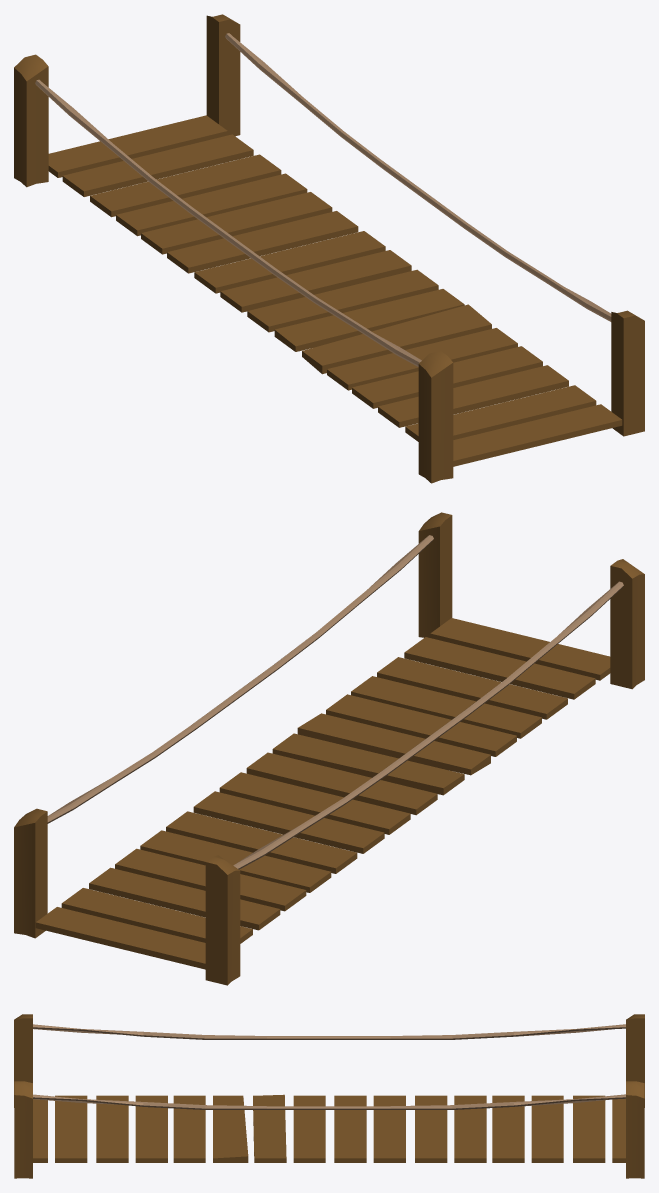
File: bridge.fbx
The picture shows the model from 3 angles, top to bottom: view 1: azimuth 30°, elevation 25°; view 2: azimuth 150°, elevation 25°; view 3: azimuth 270°, elevation 25°; orthographic projection. The views are drawn at different scales.
Parts seen in each view (by area): view 1: pasted__pasted__pCube1 (×6), pasted__pasted__pasted__pCube1 (×4), pasted__pCube1 (×4), pasted__pCube2 (×2), pCube2, pCube1, pasted__pasted__pasted__pasted__pCube1, pasted__pasted__pCube2, pasted__pCylinder1, pCylinder1; view 2: pasted__pasted__pCube1 (×6), pasted__pCube1 (×4), pasted__pasted__pasted__pCube1 (×4), pasted__pCube2 (×2), pasted__pasted__pasted__pasted__pCube1, pCube2, pasted__pasted__pCube2, pCube1, pCylinder1, pasted__pCylinder1; view 3: pasted__pasted__pCube1 (×6), pasted__pasted__pasted__pCube1 (×4), pasted__pCube1 (×4), pasted__pCube2 (×2), pCylinder1, pasted__pCylinder1, pCube1, pasted__pasted__pasted__pasted__pCube1, pasted__pasted__pCube2, pCube2.
Boxes of the visible parts, x1=… form: pasted__pasted__pCube1 (×6): x1=62, y1=134, x2=596, y2=441; pasted__pasted__pasted__pCube1 (×4): x1=116, y1=173, x2=622, y2=466; pasted__pCube1 (×4): x1=48, y1=115, x2=542, y2=408; pasted__pCube2 (×2): x1=14, y1=54, x2=644, y2=436; pCube2: x1=418, y1=351, x2=453, y2=483; pCube1: x1=141, y1=192, x2=332, y2=254; pasted__pasted__pasted__pasted__pCube1: x1=327, y1=328, x2=517, y2=390; pasted__pasted__pCube2: x1=206, y1=14, x2=240, y2=136; pasted__pCylinder1: x1=225, y1=33, x2=611, y2=321; pCylinder1: x1=35, y1=79, x2=421, y2=366; pasted__pasted__pCube1 (×6): x1=61, y1=637, x2=595, y2=943; pasted__pCube1 (×4): x1=35, y1=676, x2=541, y2=969; pasted__pasted__pasted__pCube1 (×4): x1=115, y1=618, x2=610, y2=911; pasted__pCube2 (×2): x1=205, y1=512, x2=452, y2=985; pasted__pasted__pasted__pasted__pCube1: x1=326, y1=694, x2=516, y2=756; pCube2: x1=610, y1=559, x2=644, y2=689; pasted__pasted__pCube2: x1=14, y1=808, x2=47, y2=938; pCube1: x1=140, y1=830, x2=331, y2=892; pCylinder1: x1=233, y1=581, x2=623, y2=869; pasted__pCylinder1: x1=47, y1=535, x2=433, y2=823; pasted__pasted__pCube1 (×6): x1=55, y1=1095, x2=605, y2=1162; pasted__pasted__pasted__pCube1 (×4): x1=33, y1=1094, x2=524, y2=1162; pasted__pCube1 (×4): x1=135, y1=1095, x2=625, y2=1162; pasted__pCube2 (×2): x1=14, y1=1014, x2=644, y2=1178; pCylinder1: x1=33, y1=1024, x2=625, y2=1039; pasted__pCylinder1: x1=33, y1=1094, x2=625, y2=1109; pCube1: x1=454, y1=1095, x2=486, y2=1162; pasted__pasted__pasted__pasted__pCube1: x1=173, y1=1095, x2=205, y2=1162; pasted__pasted__pCube2: x1=626, y1=1081, x2=644, y2=1178; pCube2: x1=14, y1=1014, x2=32, y2=1107.
Bounding box in the file's own units: 5.79 × 3.06 × 19.57.
